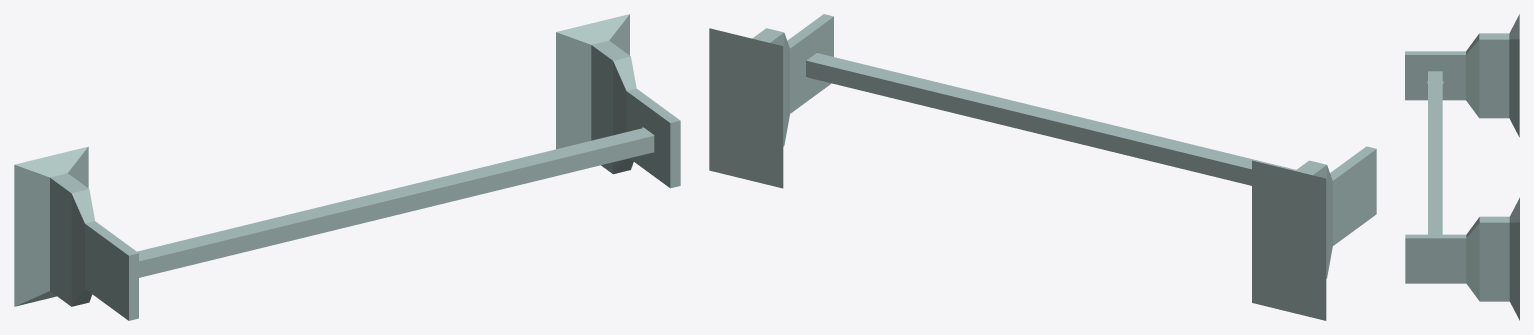
The model's file is Coat_rack.fbx.
3 renders of one model, left to right at view 1: azimuth 30°, elevation 25°; view 2: azimuth 150°, elevation 25°; view 3: azimuth 270°, elevation 25°, orthographic. The views are drawn at different scales.
Visible parts, largest first — view 1: Coat_rack; view 2: Coat_rack; view 3: Coat_rack.
Part boxes in pixels (<box>): Coat_rack: <box>14,14,680,320</box>; Coat_rack: <box>709,14,1376,320</box>; Coat_rack: <box>1405,14,1519,320</box>.
Bounding box in the file's own units: 18.61 × 4.11 × 4.33.
